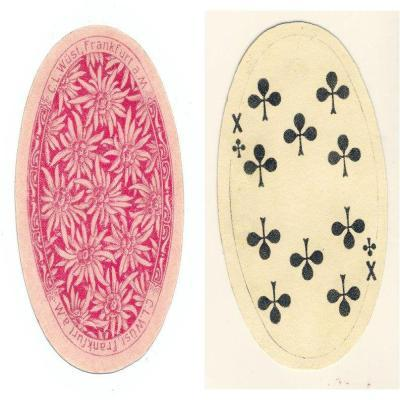graphics: (215, 21, 388, 373), (14, 25, 185, 375)
